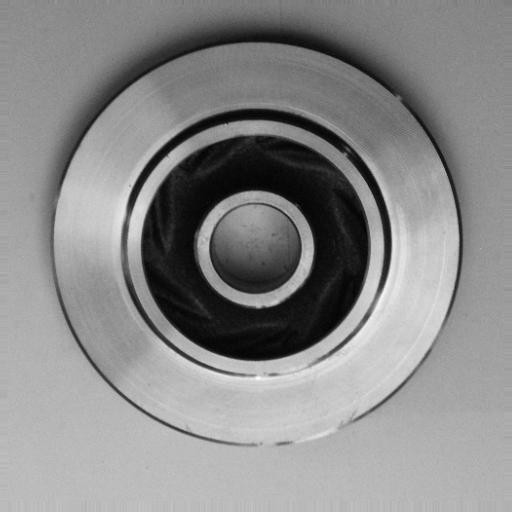scratch: (245, 407, 376, 471), (248, 353, 325, 390)
unpolished_casting: (48, 40, 462, 451)
